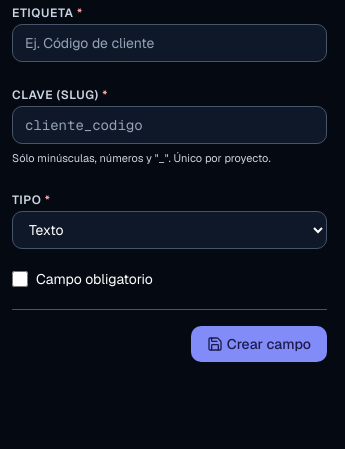
Test: FieldDefForm › muestra inputs de opciones cuando el tipo es SELECT
// Cambiamos a SELECT y verificamos que aparece la sección de opciones.
Step 1. Select "Selección única" in the dropdown labelled "Tipo *" → (170, 230), box [12, 210, 327, 248]
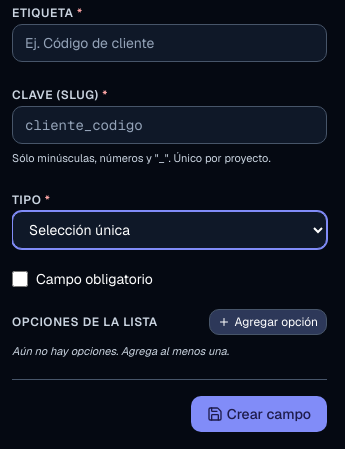
Check: the element with test id "custom-field-options" is shown, box [12, 344, 229, 358]
Check: the button "Agregar opción" is shown, box [209, 308, 327, 334]
